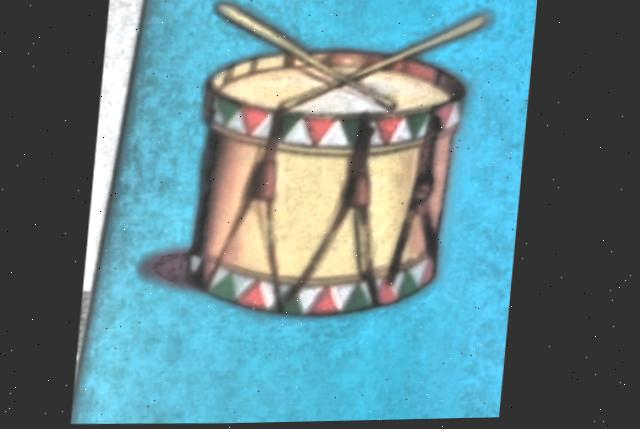El Tambor: (77, 0, 537, 423)
